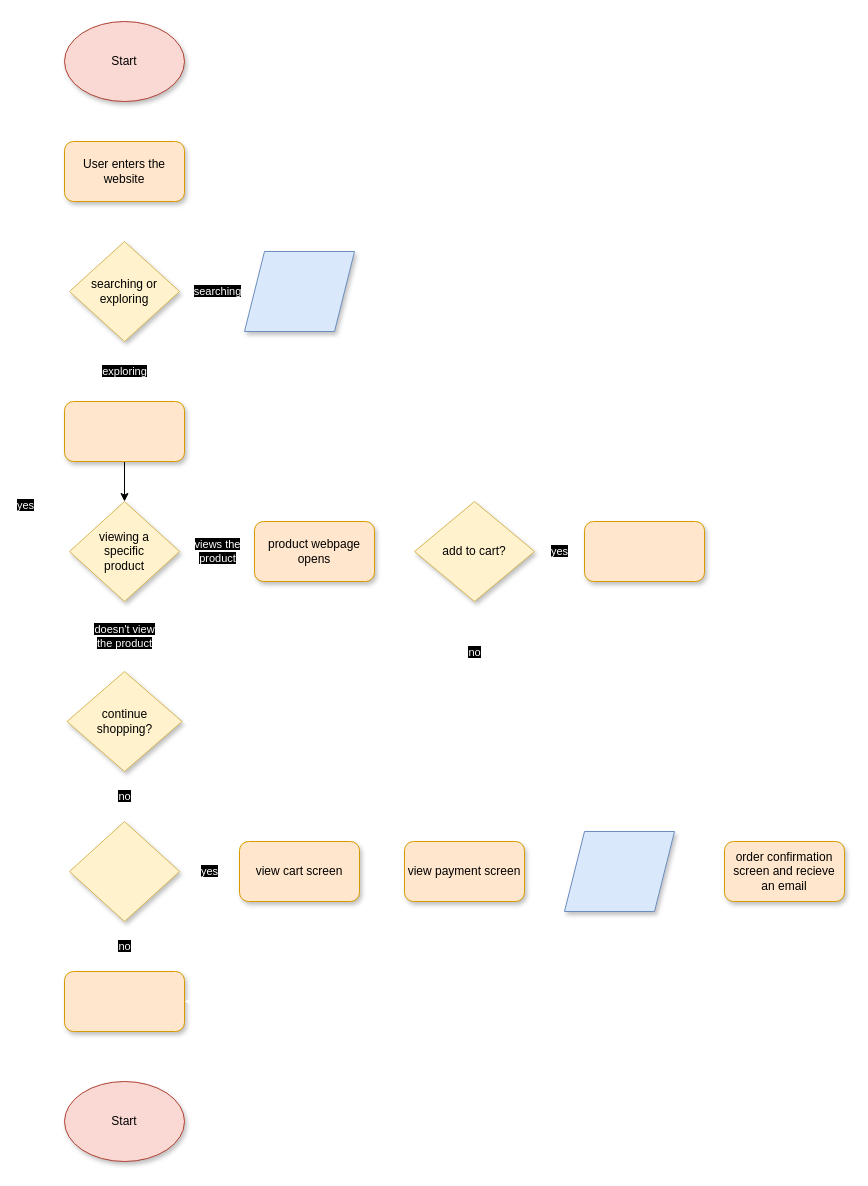
Image size: 868x1186. Some labels were removed from this diagram. The centre of each missing label's shape, as x and y in pixels:
added to cart confirmation: the point at 645,552
checkout?: the point at 125,872
looking over the products: the point at 125,432
Read input payment information: the point at 620,872
Read input product: the point at 300,292
User leaves the website: the point at 125,1002
